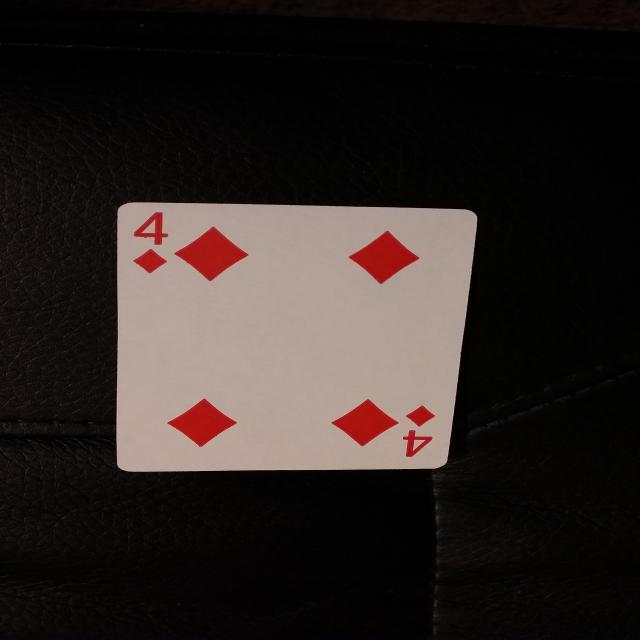4d: (122, 208, 188, 288), (389, 393, 442, 462)
